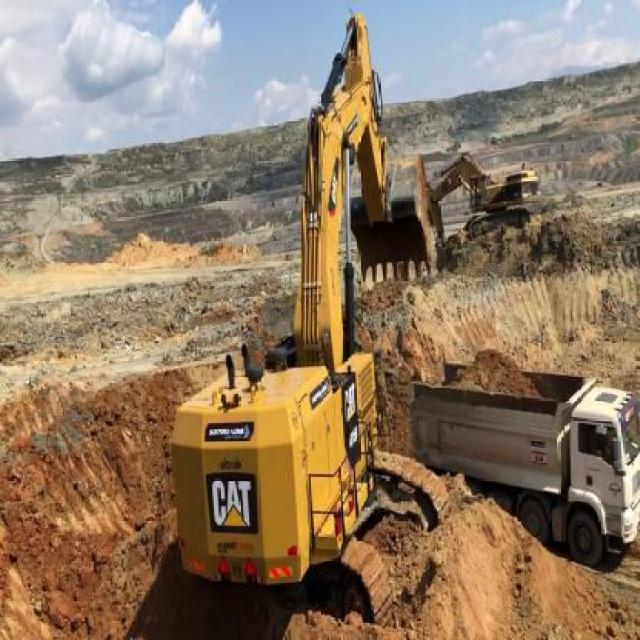dump_truck: (412, 362, 639, 564)
excavator: (176, 4, 436, 619), (432, 153, 538, 250)
